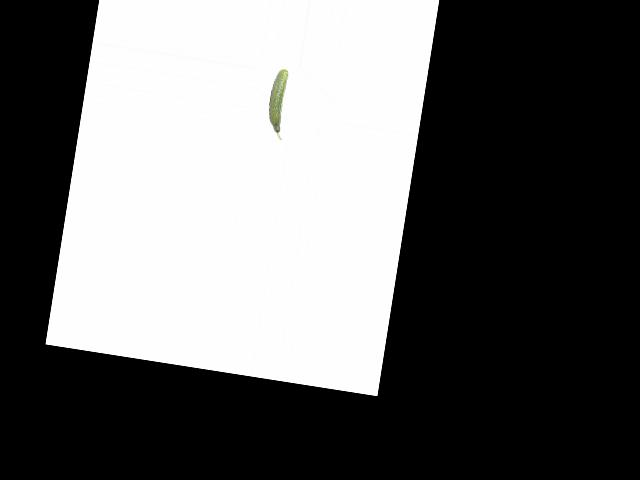cucumber: (264, 68, 292, 140)
